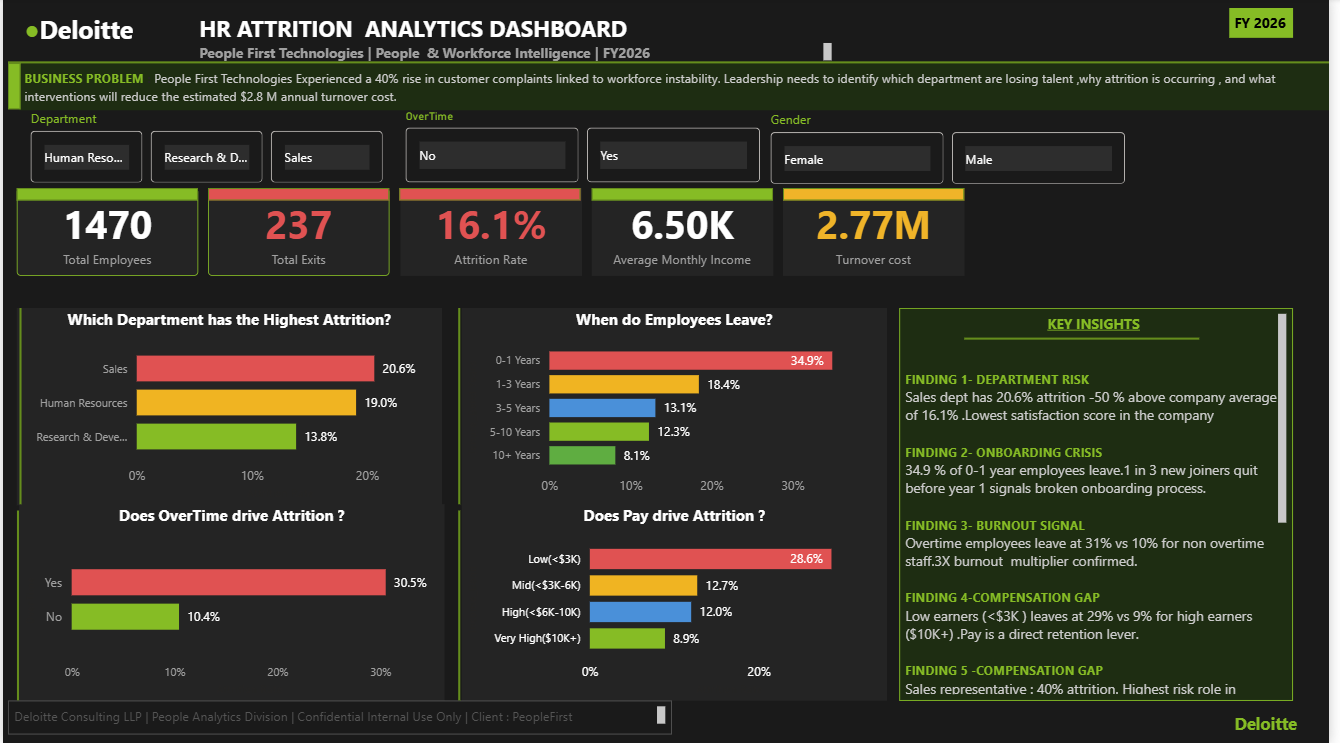

Layout of this report page (visuals, bound fields, positions):
{"tool":"powerbi","page":{"name":"Executive Overview","canvas":[1280,720],"ordinal":0},"visuals":[{"type":"textbox","box":[16,10,125.5,56.7],"z":0},{"type":"textbox","box":[184.6,9.7,620.1,42.2],"z":1000},{"type":"textbox","box":[184.6,38.6,620.1,27.7],"z":2000},{"type":"textbox","box":[15.7,62.7,1265,45.8],"z":3000},{"type":"shape","box":[4.8,49.5,1275.2,25.3],"z":4000},{"type":"card","fields":{"Values":["HR Attrition csv.Total Employees"]},"box":[13.2,182.9,175,85],"z":5000},{"type":"card","fields":{"Values":["HR Attrition csv.Total Exits"]},"box":[198.2,182.9,175,85],"z":6000},{"type":"shape","box":[13.8,183.4,174.9,12.1],"z":7000},{"type":"shape","box":[198.3,183.4,174.9,12.1],"z":8000},{"type":"card","fields":{"Values":["HR Attrition csv.Attrition Rate"]},"box":[383.2,182.9,175,85],"z":9000},{"type":"shape","box":[382.9,183.4,174.9,12.1],"z":10000},{"type":"card","fields":{"Values":["HR Attrition csv.Average Monthly Income"]},"box":[568.2,182.9,175,85],"z":11000},{"type":"shape","box":[568.7,183.4,174.9,12.1],"z":12000},{"type":"card","fields":{"Values":["HR Attrition csv.Turnover cost"]},"box":[753.2,183.4,175,85],"z":13000},{"type":"shape","box":[753.3,183.4,174.9,12.1],"z":14000},{"type":"shape","box":[4.8,62.7,12.1,44.6],"z":15000},{"type":"clusteredBarChart","title":"Which Department has the Highest Attrition?","fields":{"Category":["HR Attrition csv.Department"],"Y":["HR Attrition csv.Attrition Rate"]},"box":[13.8,299.2,410.2,190],"z":16000},{"type":"clusteredBarChart","title":"When do Employees Leave?","fields":{"Category":["HR Attrition csv.Tenure_Band Years"],"Y":["HR Attrition csv.Attrition Rate"]},"box":[442.8,299.2,410.2,190],"z":17000},{"type":"clusteredBarChart","title":"Does OverTime drive Attrition ?","fields":{"Category":["HR Attrition csv.OverTime"],"Y":["HR Attrition csv.Attrition Rate"]},"box":[15.7,488.6,410.2,189.4],"z":18000},{"type":"clusteredBarChart","title":"Does Pay drive Attrition ?","fields":{"Category":["HR Attrition csv.Income_Band"],"Y":["HR Attrition csv.Attrition Rate"]},"box":[442.8,488.6,410.2,189.4],"z":19000},{"type":"textbox","box":[865,299.2,380,378.8],"z":20000},{"type":"advancedSlicerVisual","fields":{"Values":["HR Attrition csv.OverTime"]},"box":[383.6,107.4,352.3,76],"z":21000},{"type":"advancedSlicerVisual","fields":{"Values":["HR Attrition csv.Department"]},"box":[21.7,107.4,352.3,76],"z":22000},{"type":"advancedSlicerVisual","fields":{"Values":["HR Attrition csv.Gender"]},"box":[735.9,108.6,352.3,76],"z":23000},{"type":"textbox","box":[1183.5,9.7,61.5,29],"z":24000},{"type":"shape","box":[927.8,253.4,226.8,150.8],"z":25000},{"type":"shape","box":[0,678,1280,12.1],"z":26000},{"type":"textbox","box":[4.8,678,640.6,32.6],"z":27000},{"type":"textbox","box":[1183.5,684.1,83.2,36.2],"z":28000},{"type":"shape","box":[425.9,299.2,29,189.4],"z":29000},{"type":"shape","box":[425.9,494.6,29,183.4],"z":30000},{"type":"shape","box":[4.8,299.2,24.1,189.4],"z":31000},{"type":"shape","box":[0,494.6,29,183.4],"z":32000}]}

Visuals, with their boxes in screenshot pixels (x1, y1, x2, y2), scaled from the page's 1280x720 canvas onto the 1340x743 screenshot:
textbox: Rect(17, 10, 148, 69)
textbox: Rect(193, 10, 842, 54)
textbox: Rect(193, 40, 842, 68)
textbox: Rect(16, 65, 1339, 112)
shape: Rect(5, 51, 1339, 77)
card - HR Attrition csv.Total Employees: Rect(14, 189, 197, 276)
card - HR Attrition csv.Total Exits: Rect(207, 189, 391, 276)
shape: Rect(14, 189, 198, 202)
shape: Rect(208, 189, 391, 202)
card - HR Attrition csv.Attrition Rate: Rect(401, 189, 584, 276)
shape: Rect(401, 189, 584, 202)
card - HR Attrition csv.Average Monthly Income: Rect(595, 189, 778, 276)
shape: Rect(595, 189, 778, 202)
card - HR Attrition csv.Turnover cost: Rect(789, 189, 972, 277)
shape: Rect(789, 189, 972, 202)
shape: Rect(5, 65, 18, 111)
"Which Department has the Highest Attrition?" clusteredBarChart: Rect(14, 309, 444, 505)
"When do Employees Leave?" clusteredBarChart: Rect(464, 309, 893, 505)
"Does OverTime drive Attrition ?" clusteredBarChart: Rect(16, 504, 446, 700)
"Does Pay drive Attrition ?" clusteredBarChart: Rect(464, 504, 893, 700)
textbox: Rect(906, 309, 1303, 700)
advancedSlicerVisual - HR Attrition csv.OverTime: Rect(402, 111, 770, 189)
advancedSlicerVisual - HR Attrition csv.Department: Rect(23, 111, 392, 189)
advancedSlicerVisual - HR Attrition csv.Gender: Rect(770, 112, 1139, 190)
textbox: Rect(1239, 10, 1303, 40)
shape: Rect(971, 261, 1209, 417)
shape: Rect(0, 700, 1339, 712)
textbox: Rect(5, 700, 676, 733)
textbox: Rect(1239, 706, 1326, 742)
shape: Rect(446, 309, 476, 504)
shape: Rect(446, 510, 476, 700)
shape: Rect(5, 309, 30, 504)
shape: Rect(0, 510, 30, 700)
